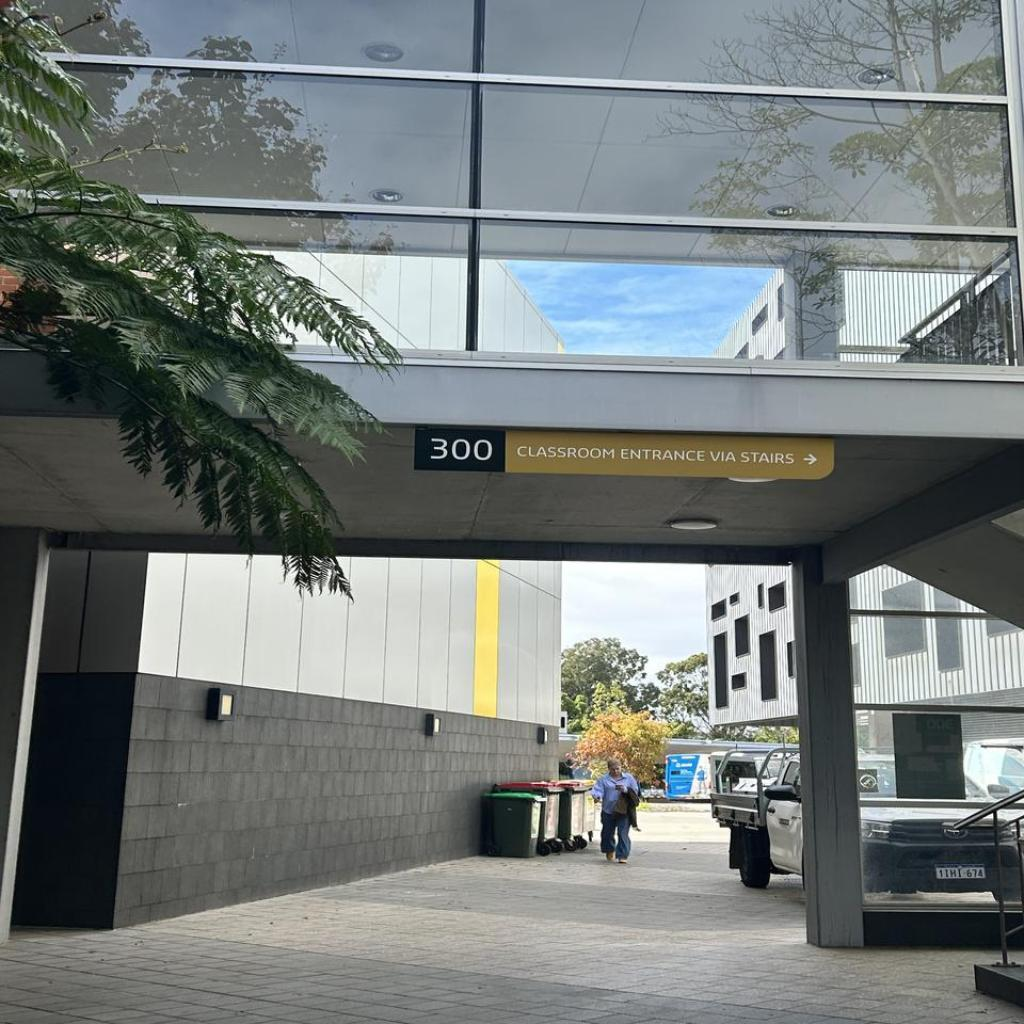BuildingCodes: (428, 436, 494, 462)
